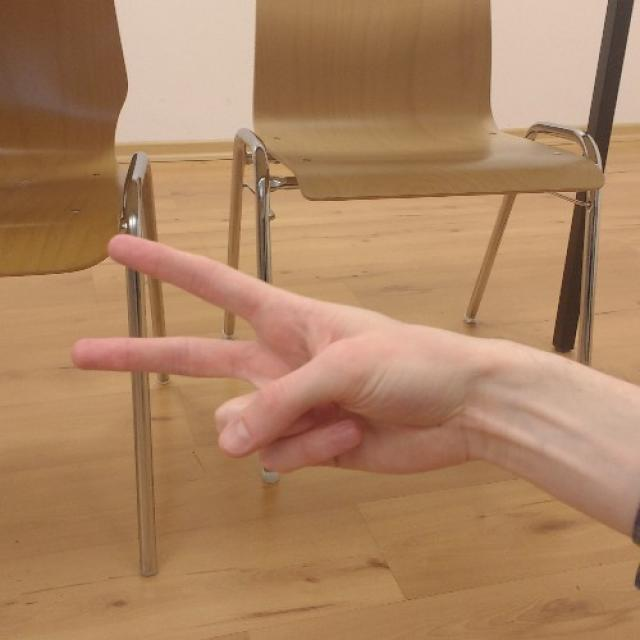scissors: (73, 231, 468, 477)
